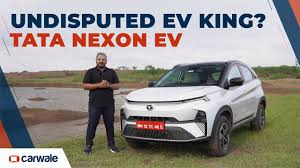Tata Nexon: (120, 58, 268, 156)
